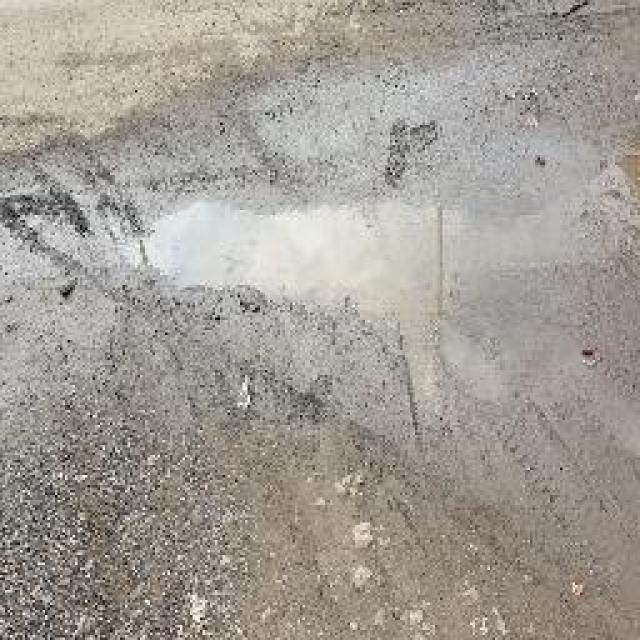waterlogging: (158, 160, 629, 315)
